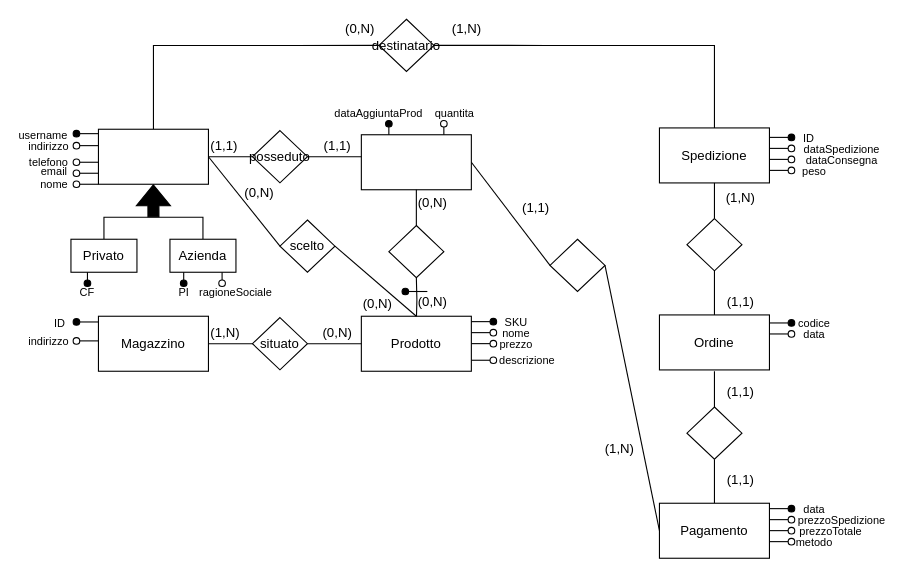
Image size: 904x578. Some labels were removed from this diagram. Here are the shapes that lost their labels. From the top down, the centre of each, then its label:
the point at 152,156: Utente
the point at 415,162: Carrello
the point at 416,251: contenuto
the point at 714,244: spedito
the point at 577,265: procedimento
the point at 714,432: effettuato
